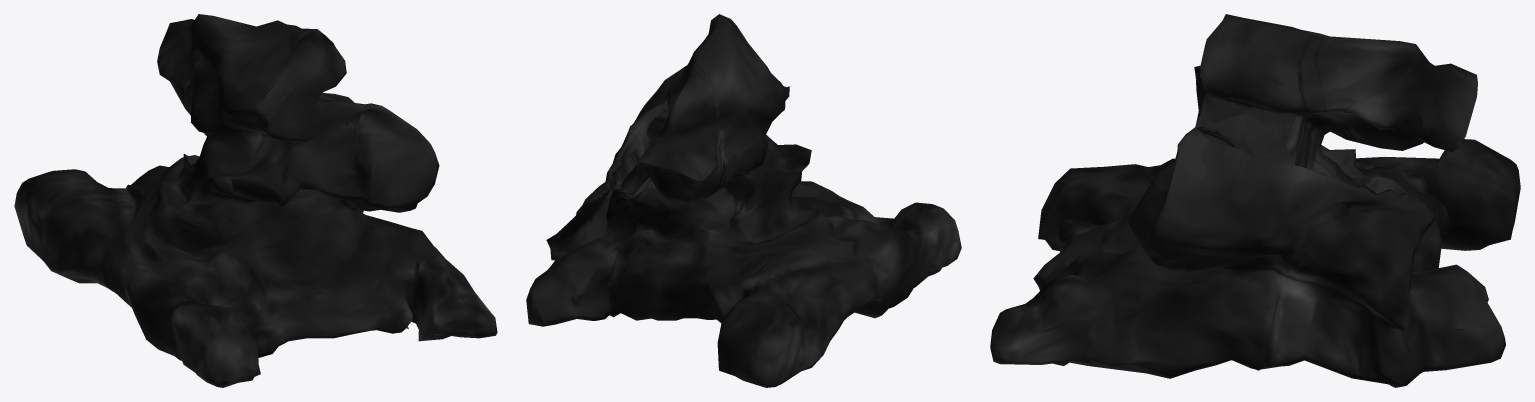
File: wreckedMissileLauncher.FBX
3 views of the same model, side by side, from view 1: azimuth 30°, elevation 25°; view 2: azimuth 150°, elevation 25°; view 3: azimuth 270°, elevation 25° (orthographic). The views are drawn at different scales.
Visible parts, largest first — view 1: wrecked_missileLauncher8:Group18202; view 2: wrecked_missileLauncher8:Group18202; view 3: wrecked_missileLauncher8:Group18202.
Part boxes in pixels (x1,y1,x2,y2): wrecked_missileLauncher8:Group18202: (14, 14, 497, 387); wrecked_missileLauncher8:Group18202: (526, 14, 961, 387); wrecked_missileLauncher8:Group18202: (990, 14, 1520, 387).
Bounding box in the file's own units: 85.39 × 79.65 × 118.
1 material, 1 textured.
